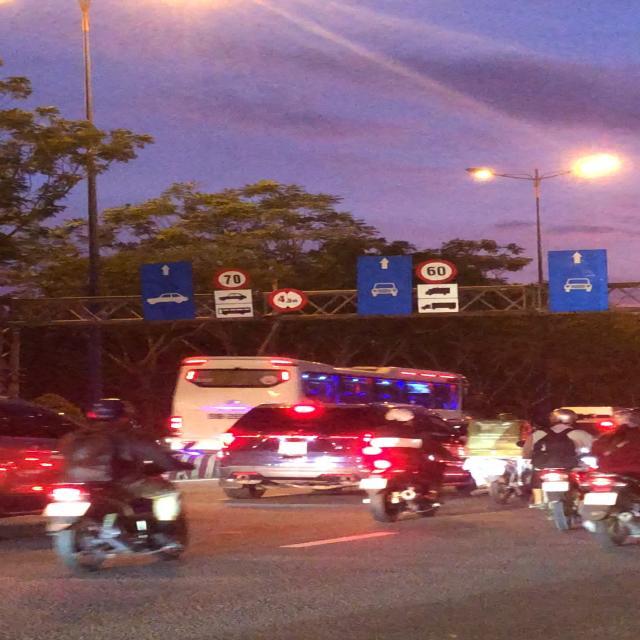Bien bao han che chieu cao: (264, 286, 312, 315)
Bien bao toc do toi da cho phep: (411, 257, 461, 286), (209, 264, 251, 292)
